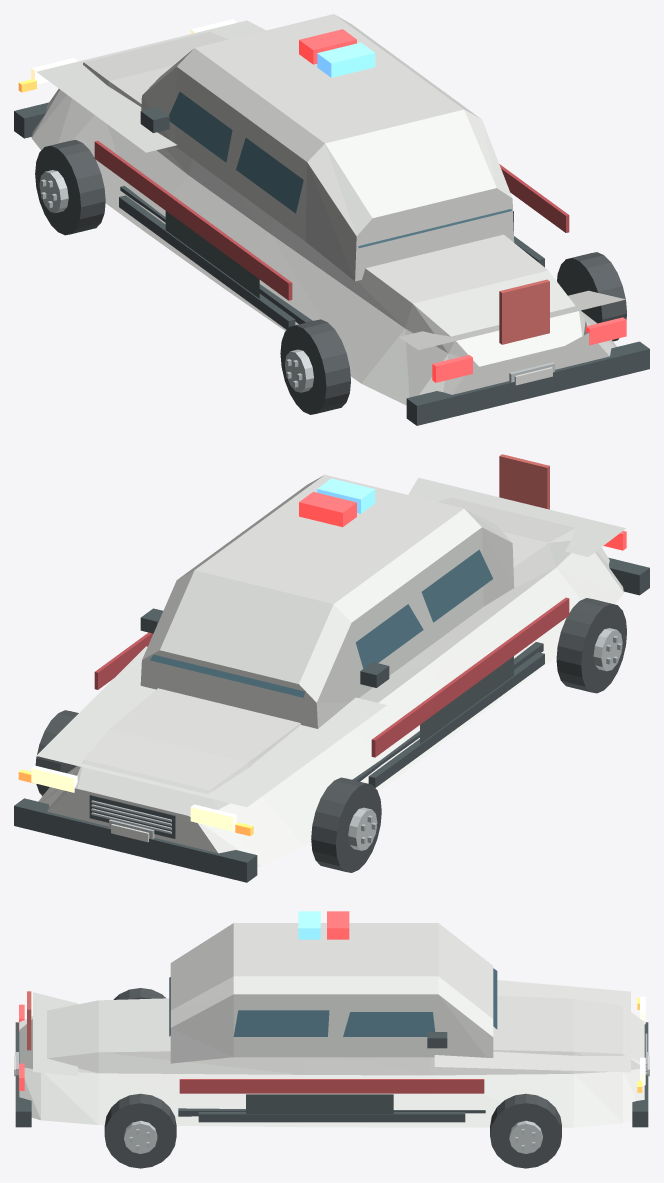
The model's file is VehicleModern_Ambulance.glb.
3 renders of one model, top to bottom at view 1: azimuth 30°, elevation 25°; view 2: azimuth 150°, elevation 25°; view 3: azimuth 270°, elevation 25°, orthographic. The views are drawn at different scales.
Parts seen in each view (by area): view 1: CabinPaint, BodyPaint, RearBumper, Hood, StaticWheelTire_-1_Front, StaticWheelTire_-1_Rear, AmbulanceSideStripeL, StaticWheelTire_1_Rear, MedicalCrossBack, SideTrim-1, WindowGlassRear-1, WindowGlassSide-1 (+12 smaller); view 2: CabinPaint, BodyPaint, Hood, FrontBumper, StaticWheelTire_-1_Front, StaticWheelTire_-1_Rear, AmbulanceSideStripeL, Trunk, SideTrim-1, WindowGlassRear-1, MedicalCrossBack, WindowGlassSide-1 (+14 smaller); view 3: BodyPaint, CabinPaint, Hood, AmbulanceSideStripeR, StaticWheelTire_1_Rear, StaticWheelTire_1_Front, DoorSeam1, SideTrim1, WindowGlassRear1, WindowGlassSide1, Trunk, StaticWheelHub_1_Front (+7 smaller).
Boxes of the visible parts, left/top/right/bottom form: CabinPaint: left=141, top=14, right=514, bottom=281; BodyPaint: left=31, top=31, right=616, bottom=405; RearBumper: left=406, top=341, right=649, bottom=425; Hood: left=36, top=20, right=265, bottom=152; StaticWheelTire_-1_Front: left=35, top=140, right=105, bottom=235; StaticWheelTire_-1_Rear: left=280, top=319, right=350, bottom=414; AmbulanceSideStripeL: left=94, top=140, right=292, bottom=300; StaticWheelTire_1_Rear: left=557, top=252, right=626, bottom=341; MedicalCrossBack: left=499, top=279, right=549, bottom=344; SideTrim-1: left=119, top=195, right=295, bottom=329; WindowGlassRear-1: left=236, top=138, right=303, bottom=213; WindowGlassSide-1: left=169, top=92, right=232, bottom=162; CabinPaint: left=140, top=474, right=514, bottom=728; BodyPaint: left=38, top=497, right=623, bottom=866; Hood: left=36, top=646, right=386, bottom=807; FrontBumper: left=14, top=798, right=257, bottom=882; StaticWheelTire_-1_Front: left=311, top=777, right=381, bottom=872; StaticWheelTire_-1_Rear: left=556, top=598, right=626, bottom=693; AmbulanceSideStripeL: left=371, top=597, right=569, bottom=757; Trunk: left=408, top=477, right=625, bottom=556; SideTrim-1: left=368, top=652, right=544, bottom=787; WindowGlassRear-1: left=421, top=549, right=492, bottom=622; MedicalCrossBack: left=499, top=454, right=549, bottom=509; WindowGlassSide-1: left=355, top=604, right=423, bottom=668; BodyPaint: left=19, top=995, right=644, bottom=1127; CabinPaint: left=170, top=923, right=493, bottom=1063; Hood: left=434, top=980, right=630, bottom=1072; AmbulanceSideStripeR: left=179, top=1079, right=484, bottom=1093; StaticWheelTire_1_Rear: left=104, top=1093, right=176, bottom=1168; StaticWheelTire_1_Front: left=490, top=1093, right=561, bottom=1168; DoorSeam1: left=246, top=1094, right=393, bottom=1113; SideTrim1: left=198, top=1112, right=465, bottom=1122; WindowGlassRear1: left=233, top=1010, right=329, bottom=1036; WindowGlassSide1: left=343, top=1012, right=435, bottom=1036; Trunk: left=33, top=992, right=77, bottom=1076; StaticWheelHub_1_Front: left=509, top=1120, right=542, bottom=1153.
Size of the model in its own units: 2.36 by 1.7 by 5.11.
